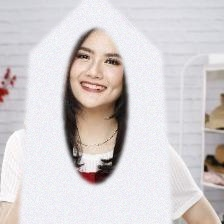Mukena: (15, 32, 176, 224)
